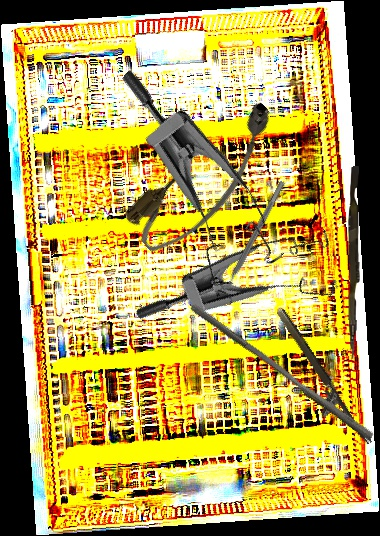Cannula: (118, 92, 296, 264)
Fixation Ring: (214, 177, 292, 305)
Needle Holder: (258, 307, 373, 459)
Pusher: (184, 303, 379, 441), (345, 166, 363, 359)
Speculum: (57, 66, 315, 308), (132, 194, 359, 394)
